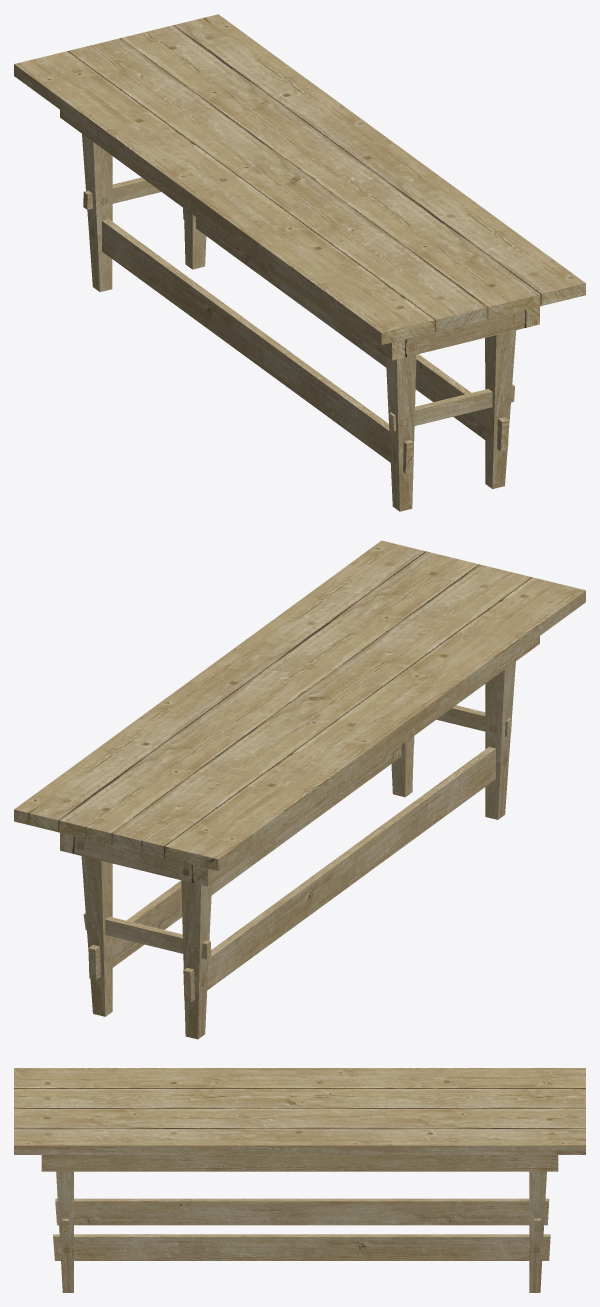
File: table.fbx
The picture shows the model from 3 angles, top to bottom: view 1: azimuth 30°, elevation 25°; view 2: azimuth 150°, elevation 25°; view 3: azimuth 270°, elevation 25°; orthographic projection. The views are drawn at different scales.
Parts seen in each view (by area): view 1: table_mt_rough; view 2: table_mt_rough; view 3: table_mt_rough.
Boxes of the visible parts, x1=… form: table_mt_rough: x1=14, y1=14, x2=585, y2=511; table_mt_rough: x1=14, y1=540, x2=585, y2=1039; table_mt_rough: x1=14, y1=1068, x2=585, y2=1292.
Bounding box in the file's own units: 80.11 × 80.01 × 250.
